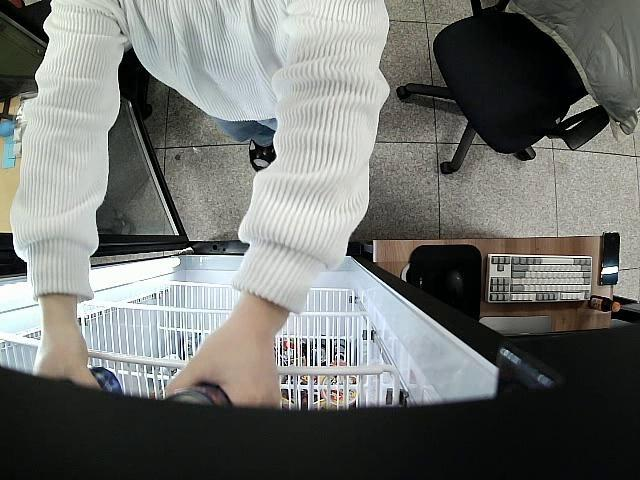16_hot6: (58, 365, 124, 395), (166, 385, 232, 406)
